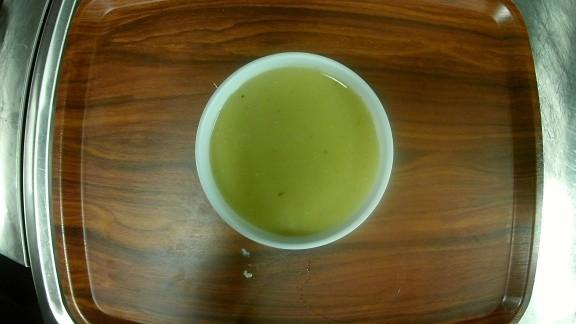mercimek: (192, 49, 395, 252)
